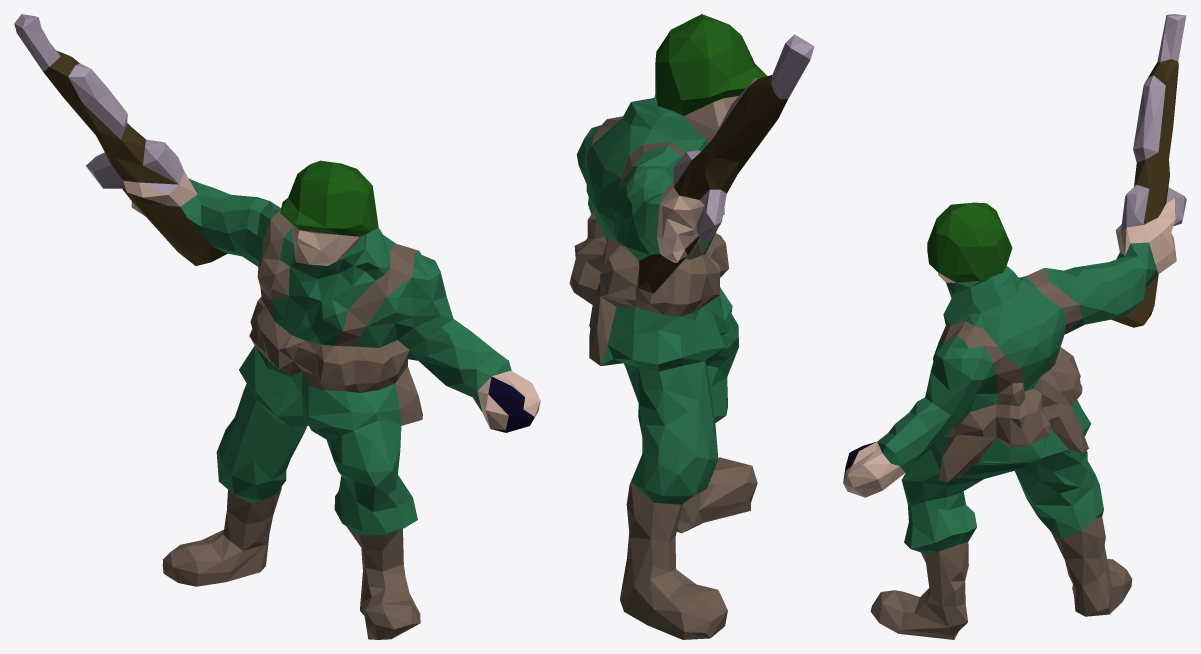
The model's file is airborn_1_low_poly_colored.glb.
The picture shows the model from 3 angles, left to right: view 1: azimuth 30°, elevation 25°; view 2: azimuth 150°, elevation 25°; view 3: azimuth 270°, elevation 25°; orthographic projection. The views are drawn at different scales.
Visible parts, largest first — view 1: Airborn_Elite_1; view 2: Airborn_Elite_1; view 3: Airborn_Elite_1.
Boxes of the visible parts, x1,y1,x2,y2 form: Airborn_Elite_1: (14, 14, 540, 639); Airborn_Elite_1: (569, 14, 814, 639); Airborn_Elite_1: (843, 14, 1186, 639).
Bounding box in the file's own units: 1.42 × 2.18 × 1.31.
